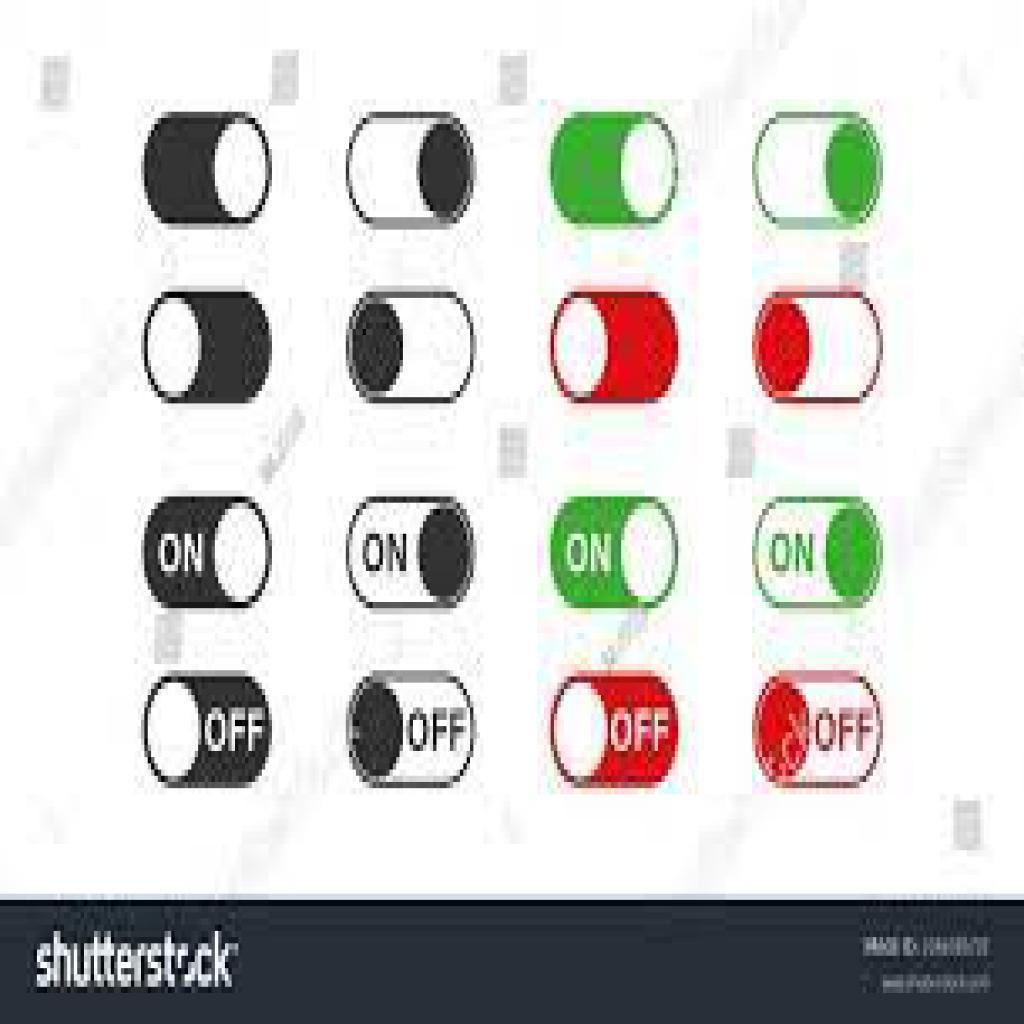switch: (144, 672, 274, 793), (548, 114, 680, 231), (345, 497, 478, 612), (349, 671, 477, 790), (143, 113, 273, 230), (754, 113, 884, 230), (757, 671, 885, 789), (347, 112, 475, 227), (754, 499, 885, 611), (144, 498, 272, 612), (753, 292, 881, 405), (552, 498, 681, 610), (345, 292, 476, 402), (551, 293, 679, 405), (144, 292, 272, 404), (555, 676, 680, 790)
